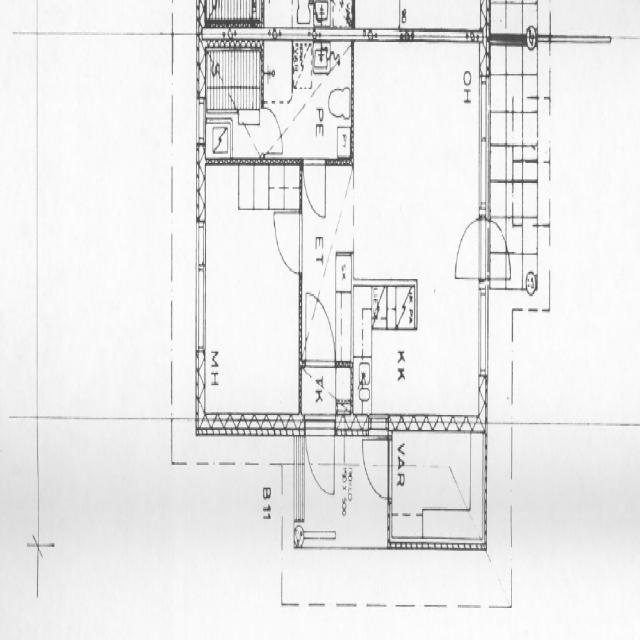door: (270, 201, 306, 280), (306, 416, 336, 505), (302, 287, 334, 369), (452, 212, 486, 284), (360, 428, 390, 502), (301, 152, 329, 223), (486, 217, 511, 286), (260, 100, 284, 156), (322, 365, 339, 402)
window: (542, 20, 640, 54), (404, 17, 480, 50), (192, 212, 208, 356), (354, 15, 403, 49), (394, 528, 426, 556)
zone: (350, 32, 486, 428), (544, 35, 640, 418), (197, 162, 302, 430), (386, 422, 488, 548), (269, 32, 354, 159), (205, 17, 261, 120), (333, 358, 356, 424)
